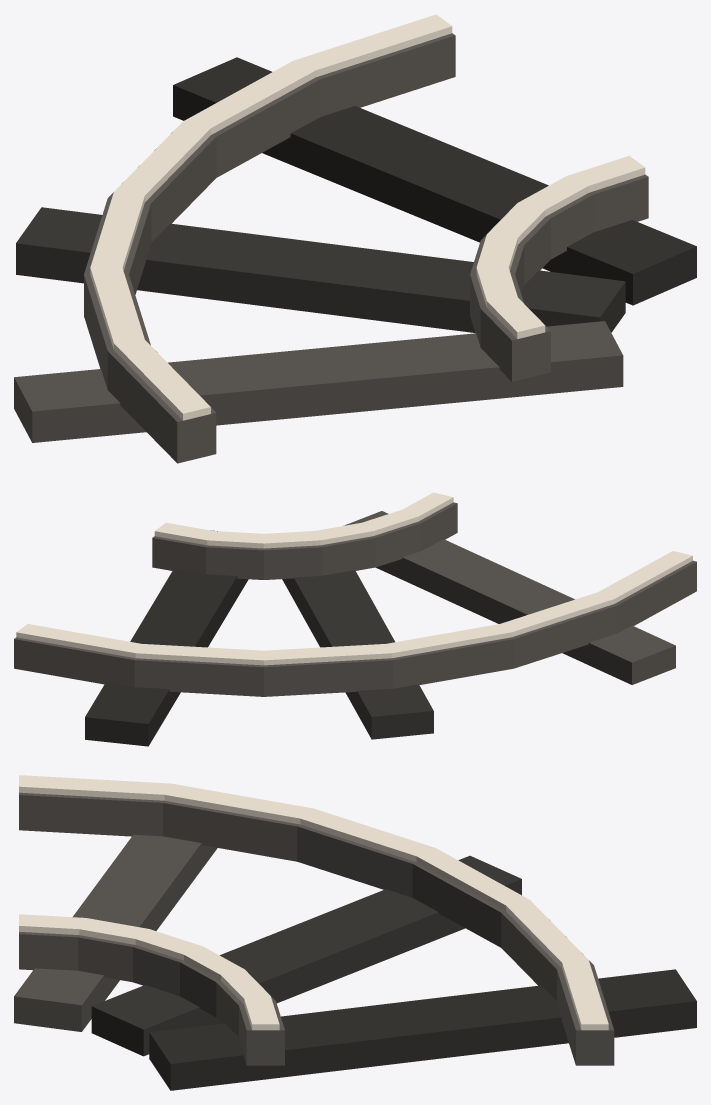
Rendered from SM_VKI_Overlay_Track_Curve.fbx.
The picture shows the model from 3 angles, top to bottom: view 1: azimuth 30°, elevation 25°; view 2: azimuth 150°, elevation 25°; view 3: azimuth 270°, elevation 25°; orthographic projection. The views are drawn at different scales.
Parts seen in each view (by area): view 1: SM_VKI_Overlay_Track_Curve.001; view 2: SM_VKI_Overlay_Track_Curve.001; view 3: SM_VKI_Overlay_Track_Curve.001.
Boxes of the visible parts, x1=… form: SM_VKI_Overlay_Track_Curve.001: x1=14, y1=14, x2=696, y2=463; SM_VKI_Overlay_Track_Curve.001: x1=14, y1=492, x2=696, y2=746; SM_VKI_Overlay_Track_Curve.001: x1=14, y1=775, x2=696, y2=1090.
Bounding box in the file's own units: 1.2 × 0.1344 × 1.24.
